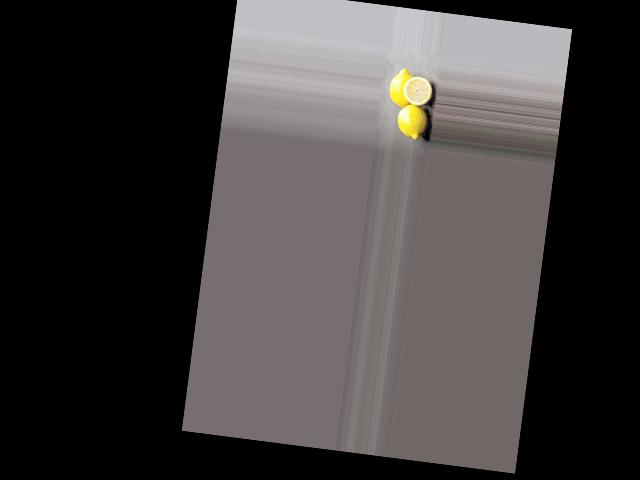lemon: (384, 64, 417, 109)
